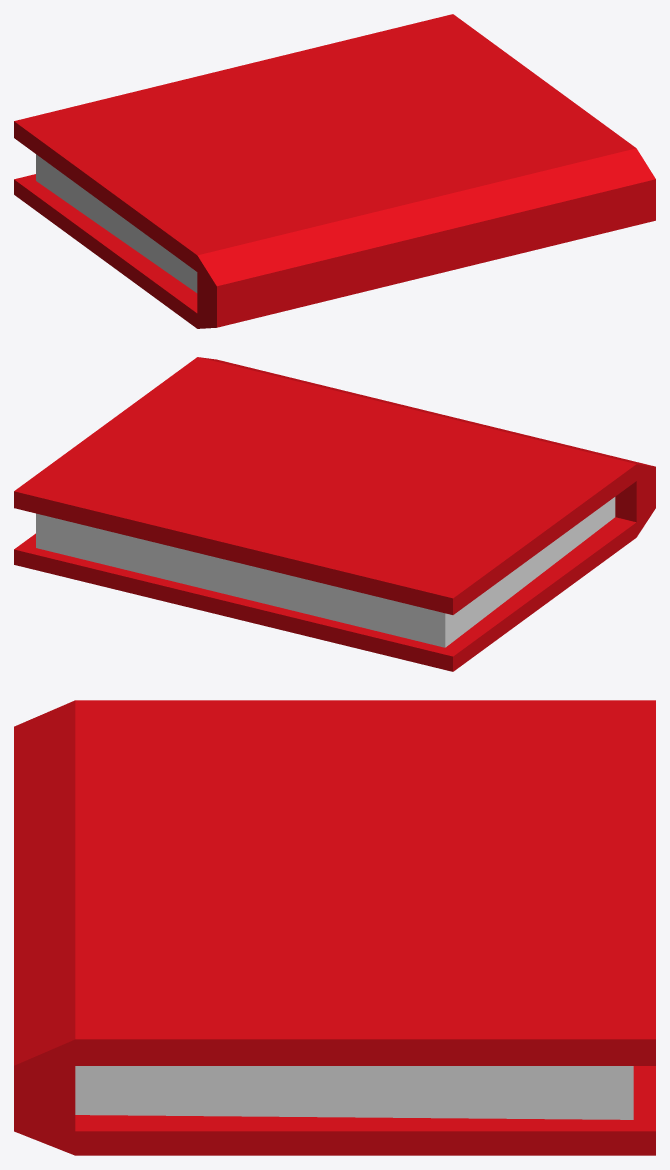
Rendered from redbook.fbx.
The picture shows the model from 3 angles, top to bottom: view 1: azimuth 30°, elevation 25°; view 2: azimuth 150°, elevation 25°; view 3: azimuth 270°, elevation 25°; orthographic projection. The views are drawn at different scales.
Visible parts, largest first — view 1: Cube; view 2: Cube; view 3: Cube.
Boxes of the visible parts, box(x1,y1,x2,y2) form: Cube: box(14, 14, 655, 328); Cube: box(14, 357, 655, 671); Cube: box(14, 700, 655, 1155).
Bounding box in the file's own units: 250 × 40 × 200.
